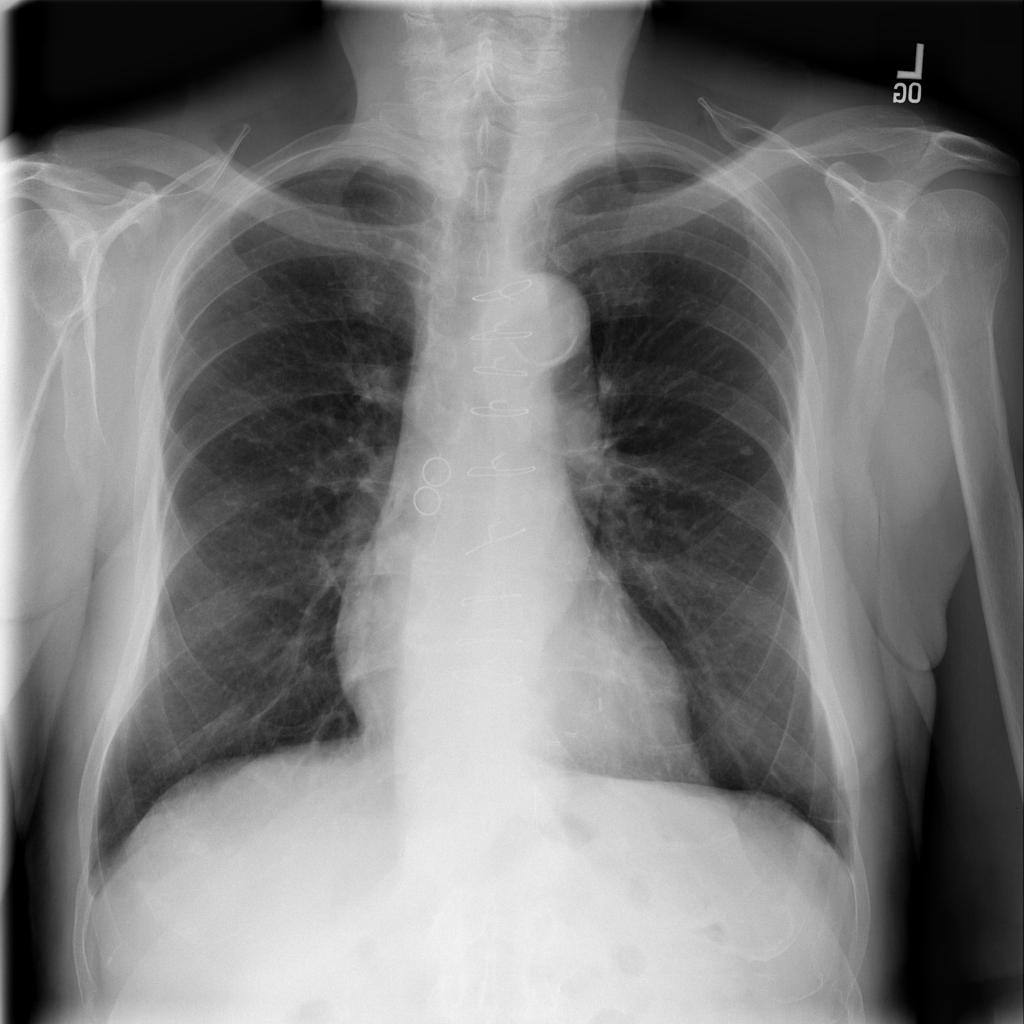nodule: (726, 424, 775, 473)
